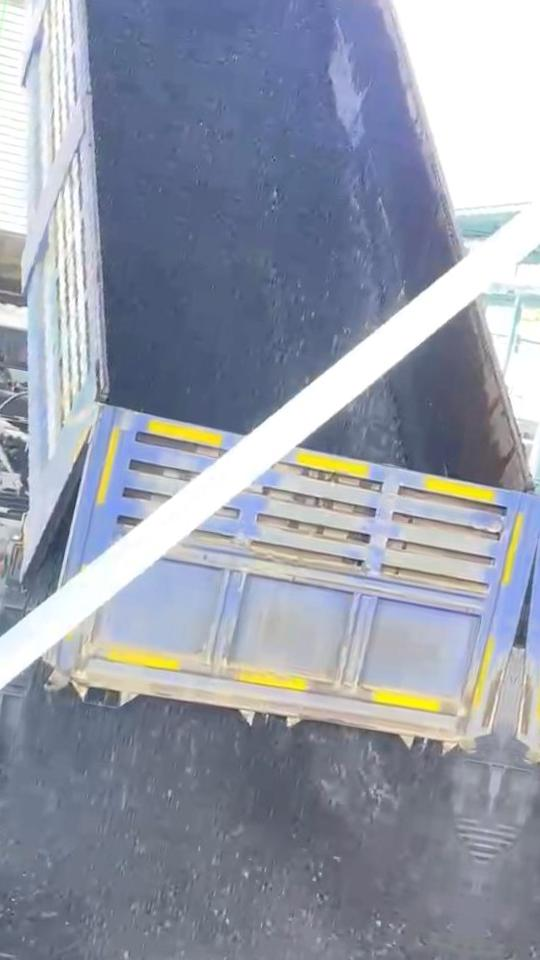gravel: (85, 0, 402, 434), (0, 676, 476, 960), (305, 378, 404, 465)
